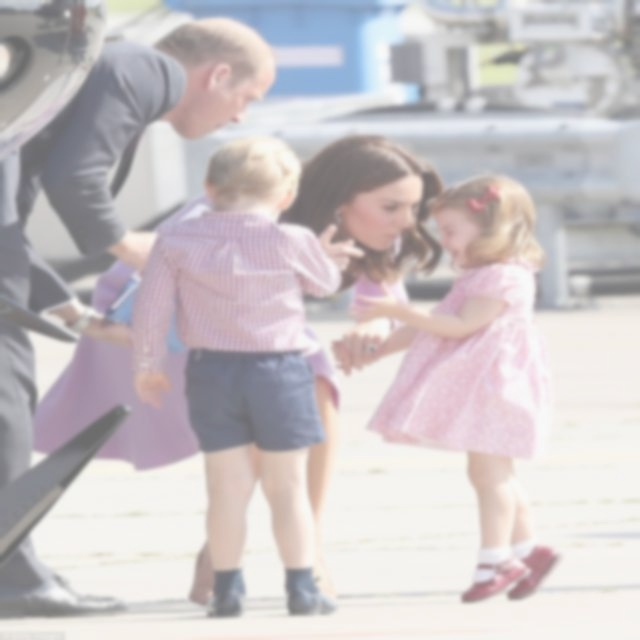pessoa: (29, 129, 447, 612), (0, 12, 283, 628), (119, 132, 345, 622), (327, 168, 568, 606)
